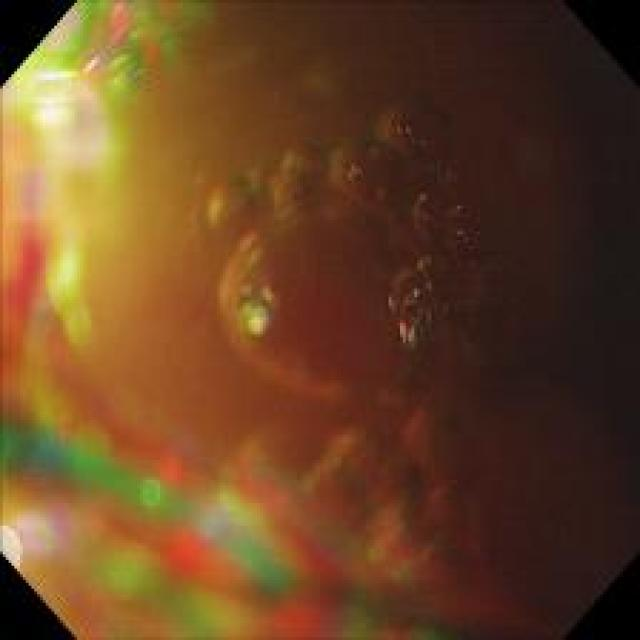bubbles: (202, 98, 520, 399), (559, 355, 604, 388)
color misalignment: (6, 9, 616, 614), (6, 116, 372, 621), (199, 100, 528, 405), (26, 60, 140, 220), (69, 5, 218, 76)
